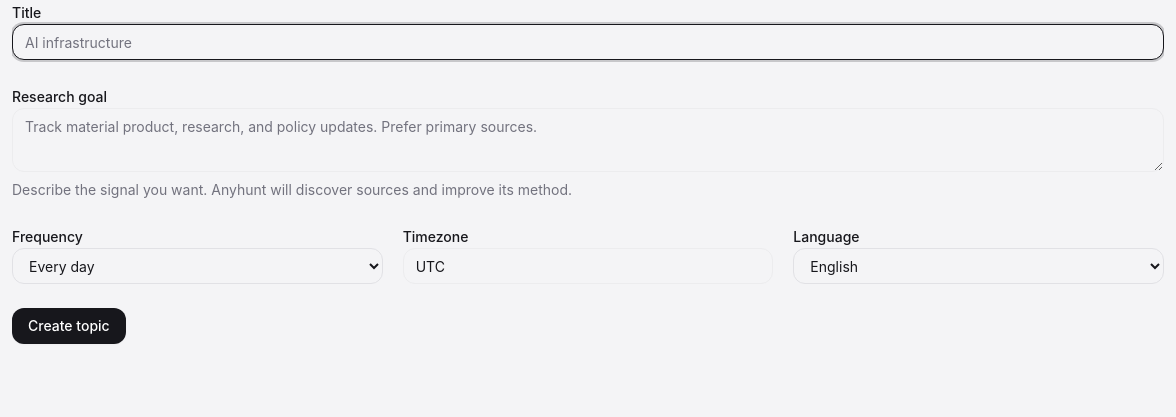
it: Web accessibility baseline › moves focus to the first invalid Topic field and exposes the error
Click the button "Create topic": [69, 326] box [12,308,126,344]
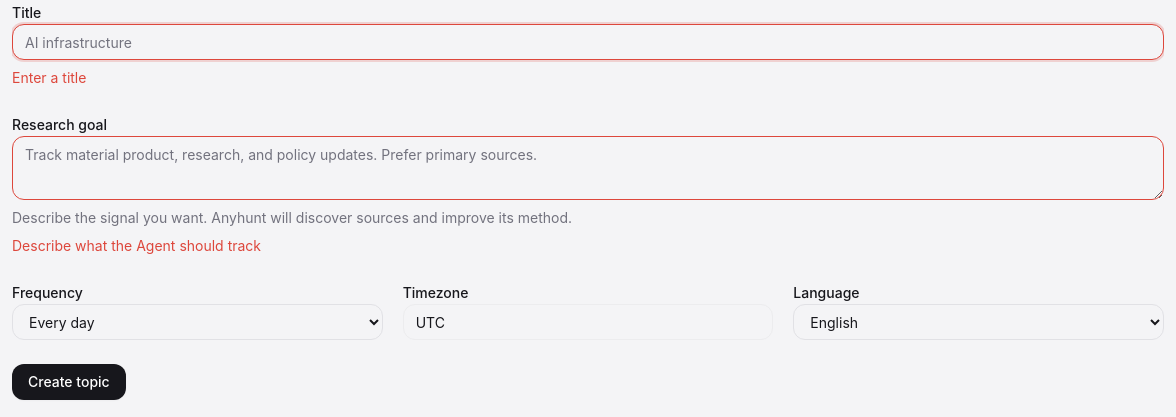
Check: the text "Enter a title" is shown, box [12,69,86,86]
